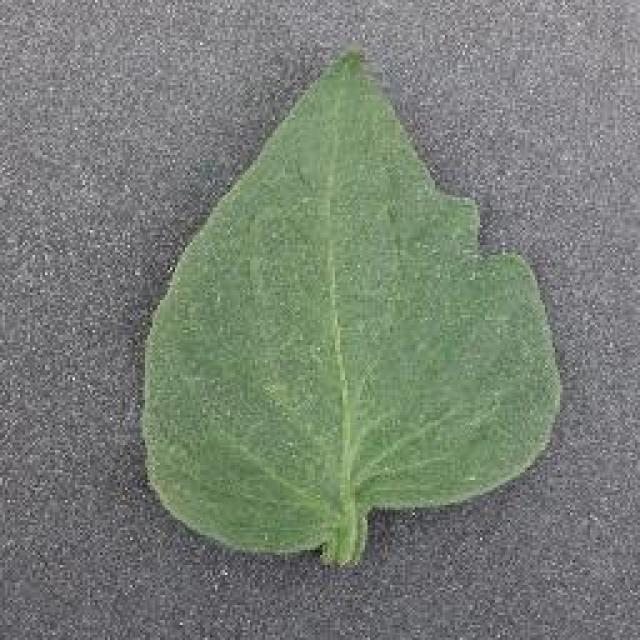Tomato healthy leaf: (142, 54, 566, 561)
